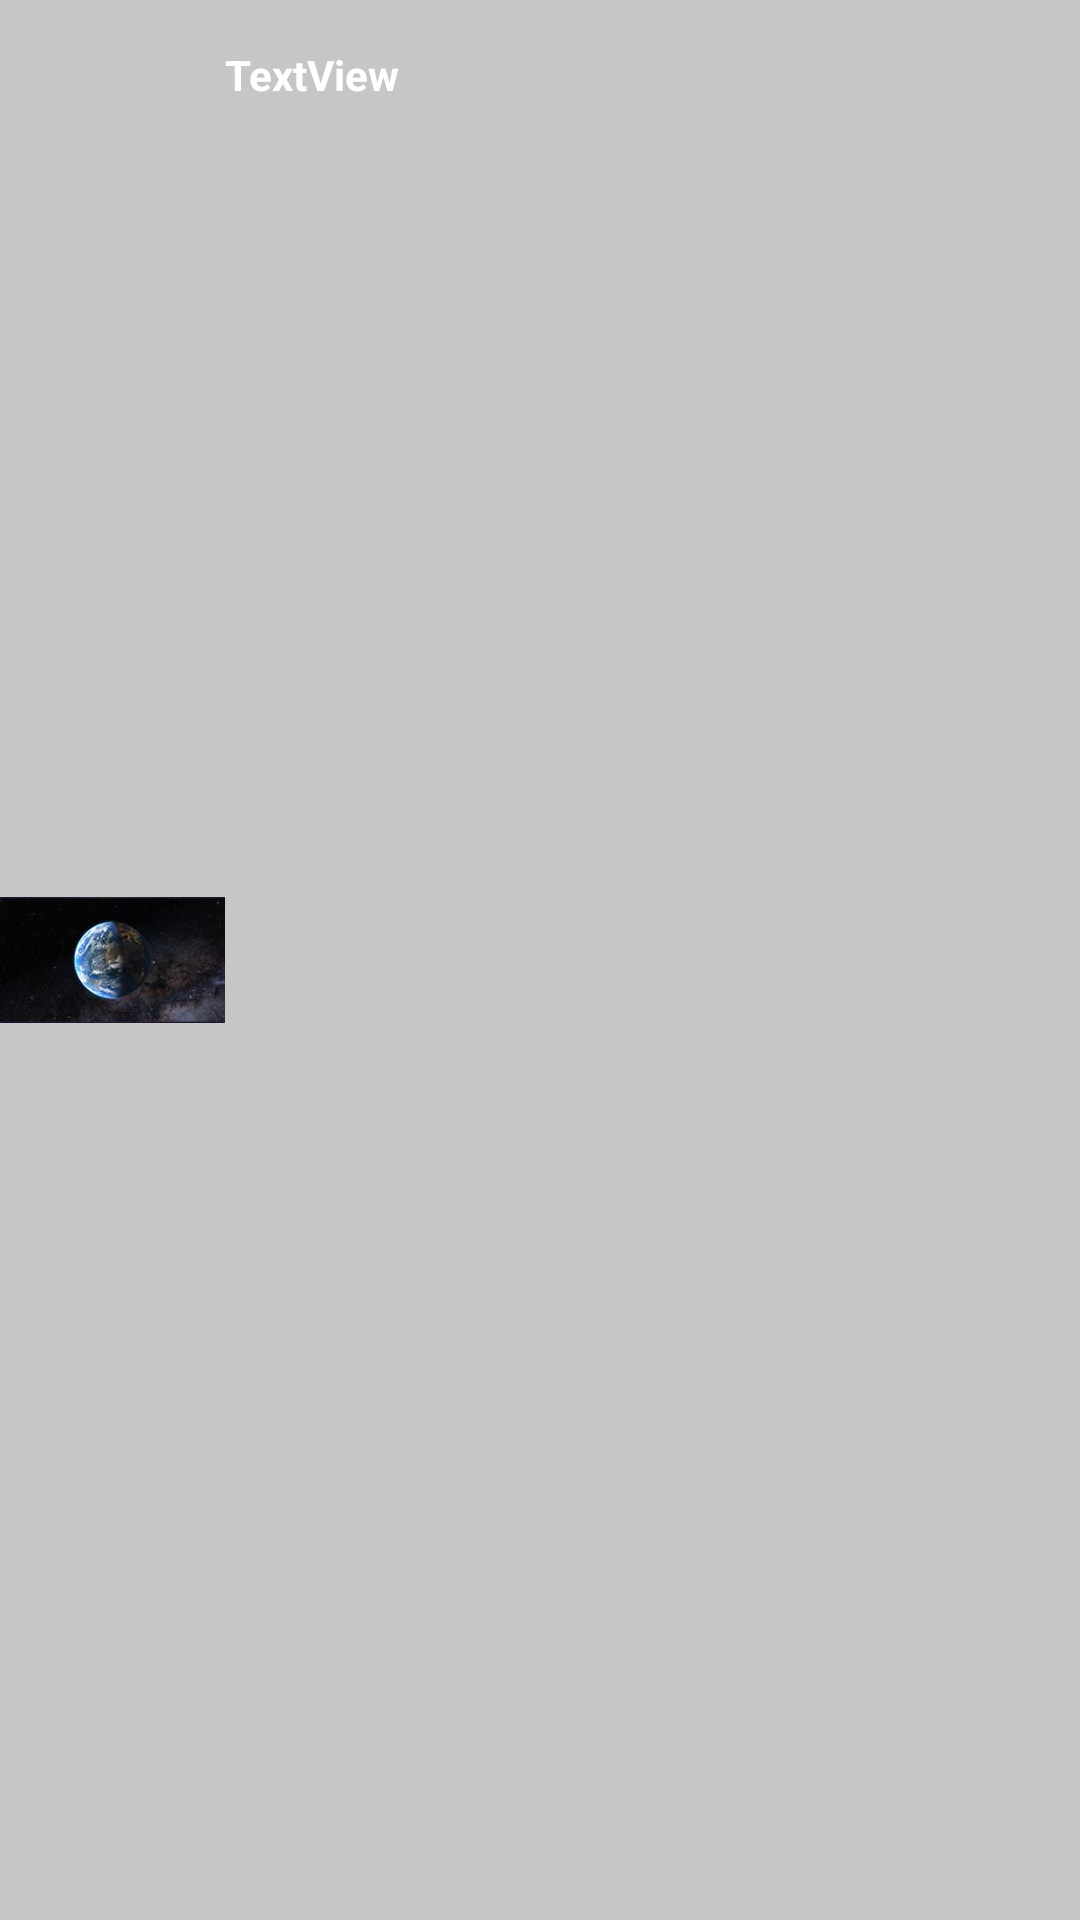

Icon bounding boxes for this 1080px x 1920px phone screenshot, format (x1,y1,x2,y2):
earth: (0,897,225,1023)
